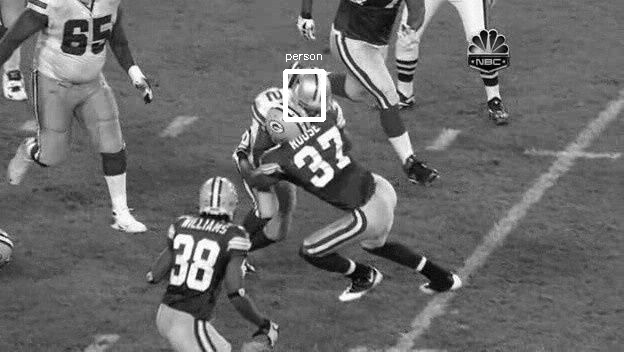person: (291, 68, 330, 117), (290, 68, 329, 117), (292, 68, 331, 117), (291, 67, 330, 116), (291, 69, 330, 118)
target_negative: (20, 109, 538, 193), (508, 73, 611, 241), (405, 50, 484, 253), (330, 44, 548, 109), (64, 3, 98, 35), (619, 312, 620, 334)
